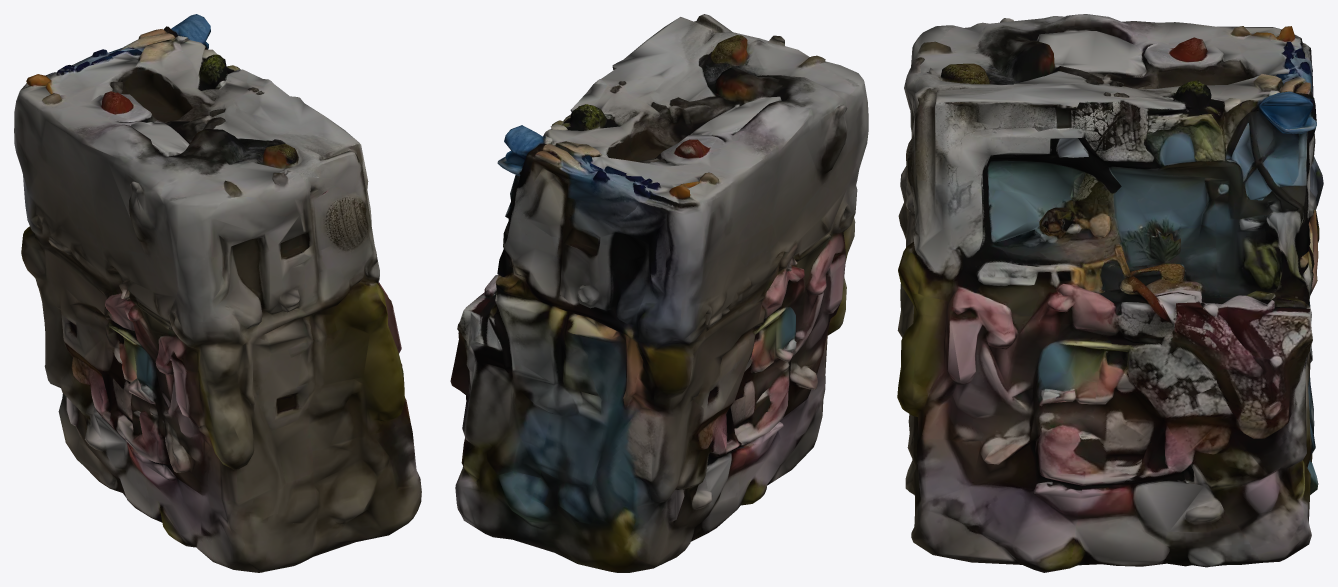
File: cube_painted.glb
3 views of the same model, side by side, from view 1: azimuth 30°, elevation 25°; view 2: azimuth 150°, elevation 25°; view 3: azimuth 270°, elevation 25° (orthographic). The views are drawn at different scales.
Parts seen in each view (by area): view 1: tripo_node_c306159c; view 2: tripo_node_c306159c; view 3: tripo_node_c306159c.
Part boxes in pixels (x1=…): tripo_node_c306159c: x1=14, y1=14, x2=421, y2=572; tripo_node_c306159c: x1=450, y1=14, x2=868, y2=572; tripo_node_c306159c: x1=897, y1=14, x2=1323, y2=572.
Size of the model in its own units: 0.6517 by 0.9794 by 0.8305.
1 material, 1 textured.
